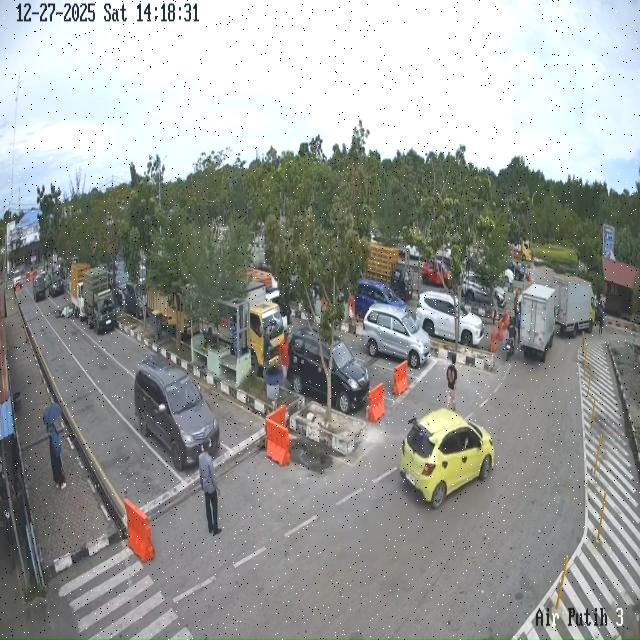Golongan IVA: (134, 356, 220, 471), (399, 408, 495, 509), (287, 328, 370, 413), (362, 304, 430, 369), (416, 291, 484, 347), (354, 279, 406, 318), (462, 272, 506, 308), (48, 270, 64, 298), (32, 274, 46, 302)
Golongan IVB: (83, 267, 116, 334), (70, 262, 90, 321)
Golongan VB: (520, 283, 556, 362), (554, 275, 596, 338)
